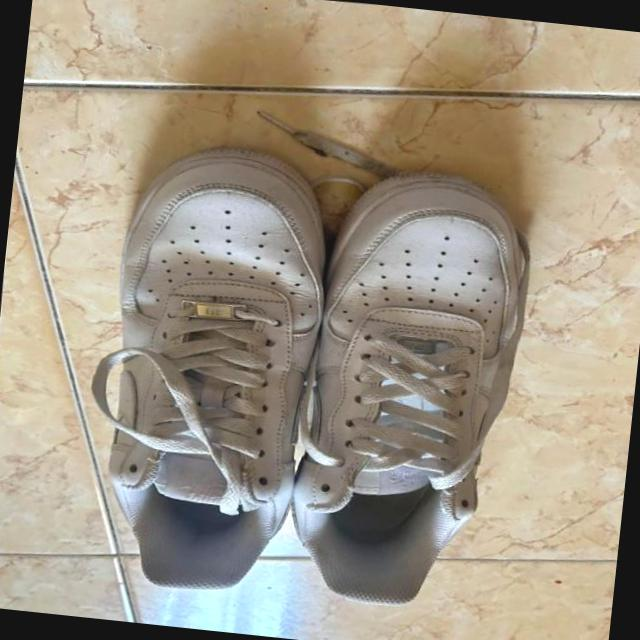nike_fake_airforce: (70, 130, 340, 600), (278, 152, 552, 614)
